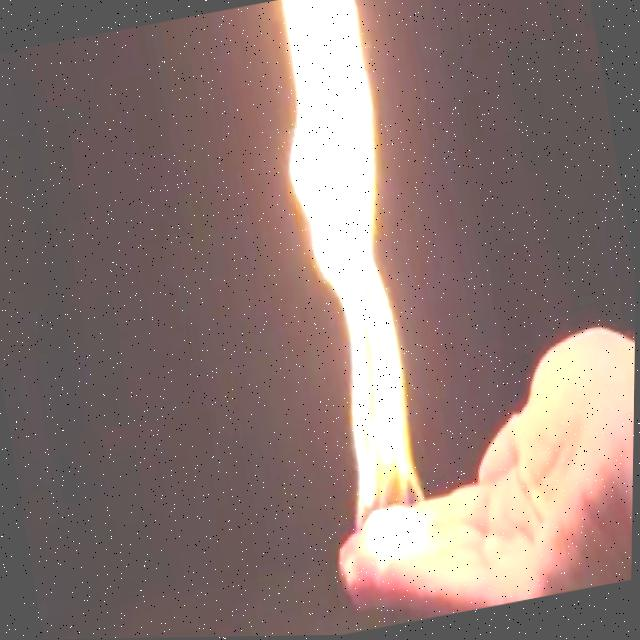Fire: (243, 0, 473, 570)
